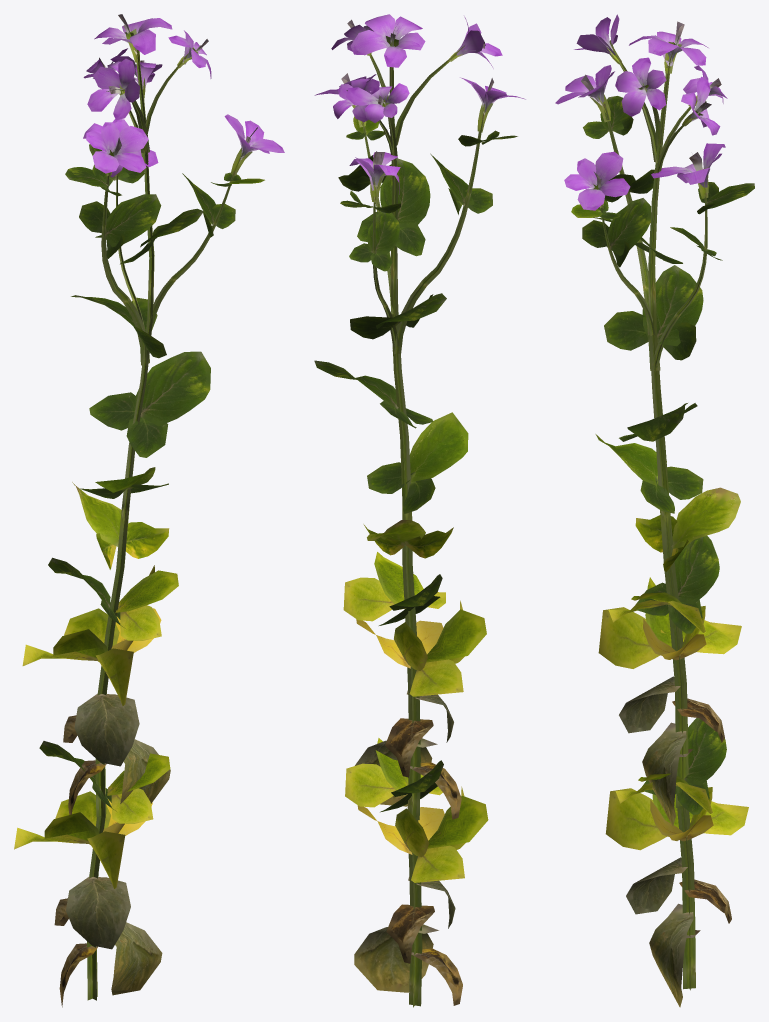
The model's file is Periwinkle_bush_long_magenta.glb.
3 renders of one model, left to right at view 1: azimuth 30°, elevation 25°; view 2: azimuth 150°, elevation 25°; view 3: azimuth 270°, elevation 25°, orthographic.
Visible parts, largest first — view 1: _b868_Var1_LOD1.2; view 2: _b868_Var1_LOD1.2; view 3: _b868_Var1_LOD1.2.
Boxes of the visible parts, x1,y1,x2,y2 form: _b868_Var1_LOD1.2: (14, 14, 284, 1007); _b868_Var1_LOD1.2: (314, 14, 525, 1007); _b868_Var1_LOD1.2: (555, 14, 754, 1007).
Bounding box in the file's own units: 0.7607 × 3.45 × 0.6398.
1 material, 1 textured.
